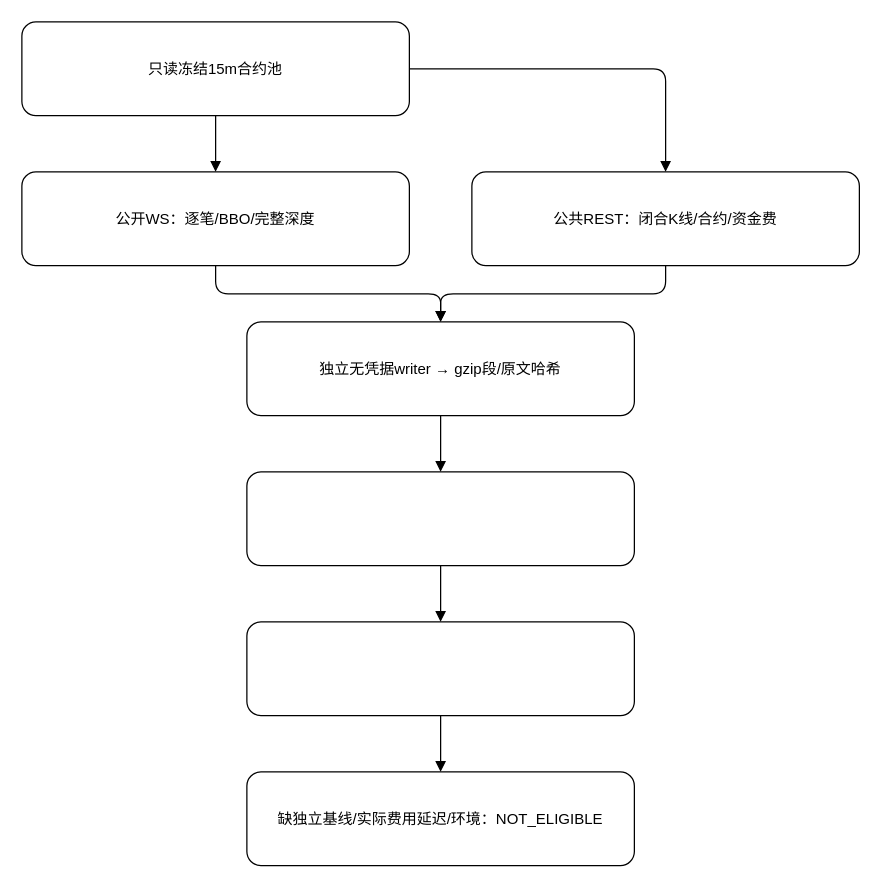
The diagram is 881 pixels wide and 888 high, and some of its shapes have lost their labels. The shapes that lost their labels are listed below. From the top down, each one's centre as x and y in pixels, then its label:
At pixel 440 518: "2GiB / 5GiB余量 / 24h / 队列故障 → 停止".
At pixel 440 668: "逐段校验/导出：segment+index+event hash".
